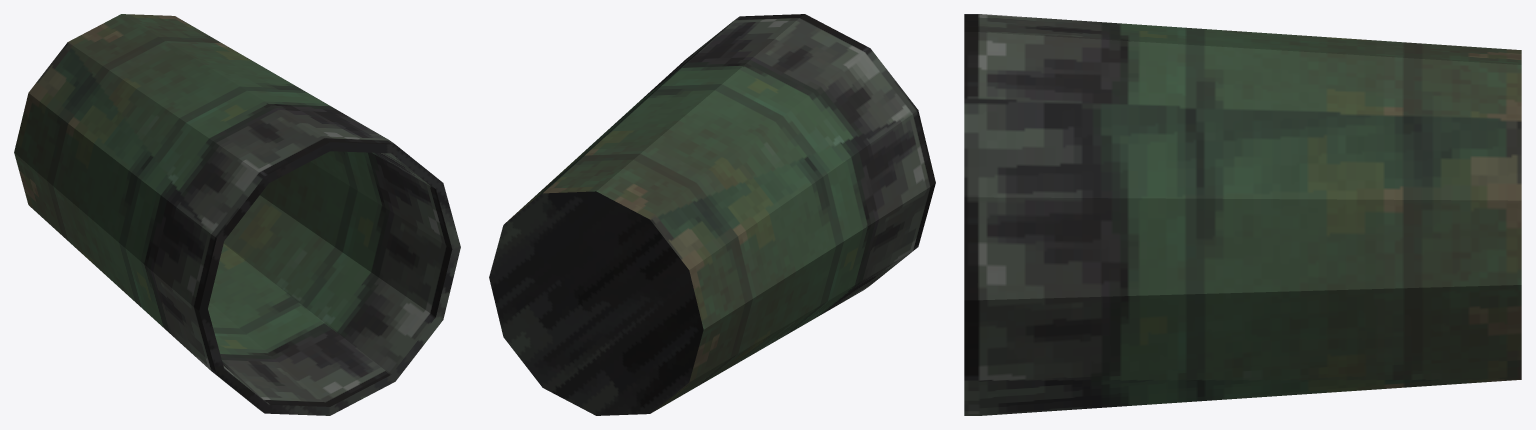
File: pz_trashbin_green.obj
3 renders of one model, left to right at view 1: azimuth 30°, elevation 25°; view 2: azimuth 150°, elevation 25°; view 3: azimuth 270°, elevation 25°, orthographic. The views are drawn at different scales.
Visible parts, largest first — view 1: pz_trashbin_green_|_open_tapered_trash_body; view 2: pz_trashbin_green_|_open_tapered_trash_body; view 3: pz_trashbin_green_|_open_tapered_trash_body.
Part boxes in pixels (<box>): pz_trashbin_green_|_open_tapered_trash_body: <box>14,14,460,415</box>; pz_trashbin_green_|_open_tapered_trash_body: <box>489,14,935,415</box>; pz_trashbin_green_|_open_tapered_trash_body: <box>964,14,1521,415</box>.
Bounding box in the file's own units: 0.364 × 0.364 × 0.503.
Materials: 1 (1 with a texture image).
